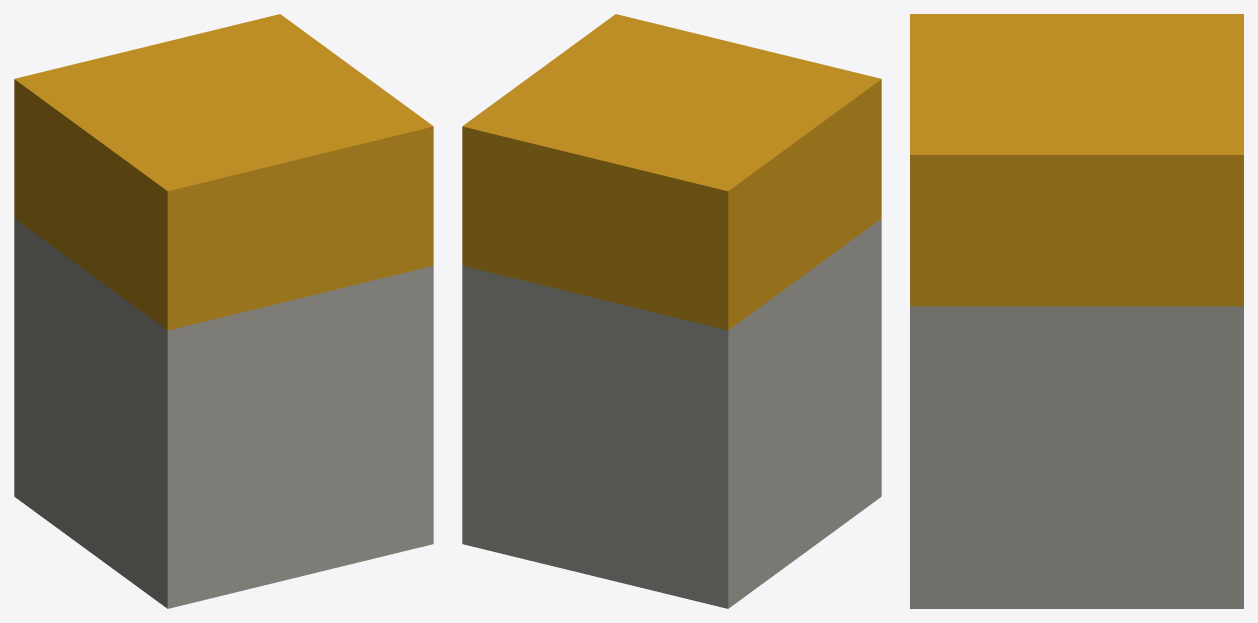
File: ws_corner_low.glb
3 renders of one model, left to right at view 1: azimuth 30°, elevation 25°; view 2: azimuth 150°, elevation 25°; view 3: azimuth 270°, elevation 25°, orthographic. The views are drawn at different scales.
Visible parts, largest first — view 1: pier; view 2: pier; view 3: pier.
Part boxes in pixels (x1,y1,x2,y2): pier: (14, 14, 433, 608); pier: (462, 14, 881, 608); pier: (910, 14, 1243, 608).
Bounding box in the file's own units: 0.4 × 0.6 × 0.4.
